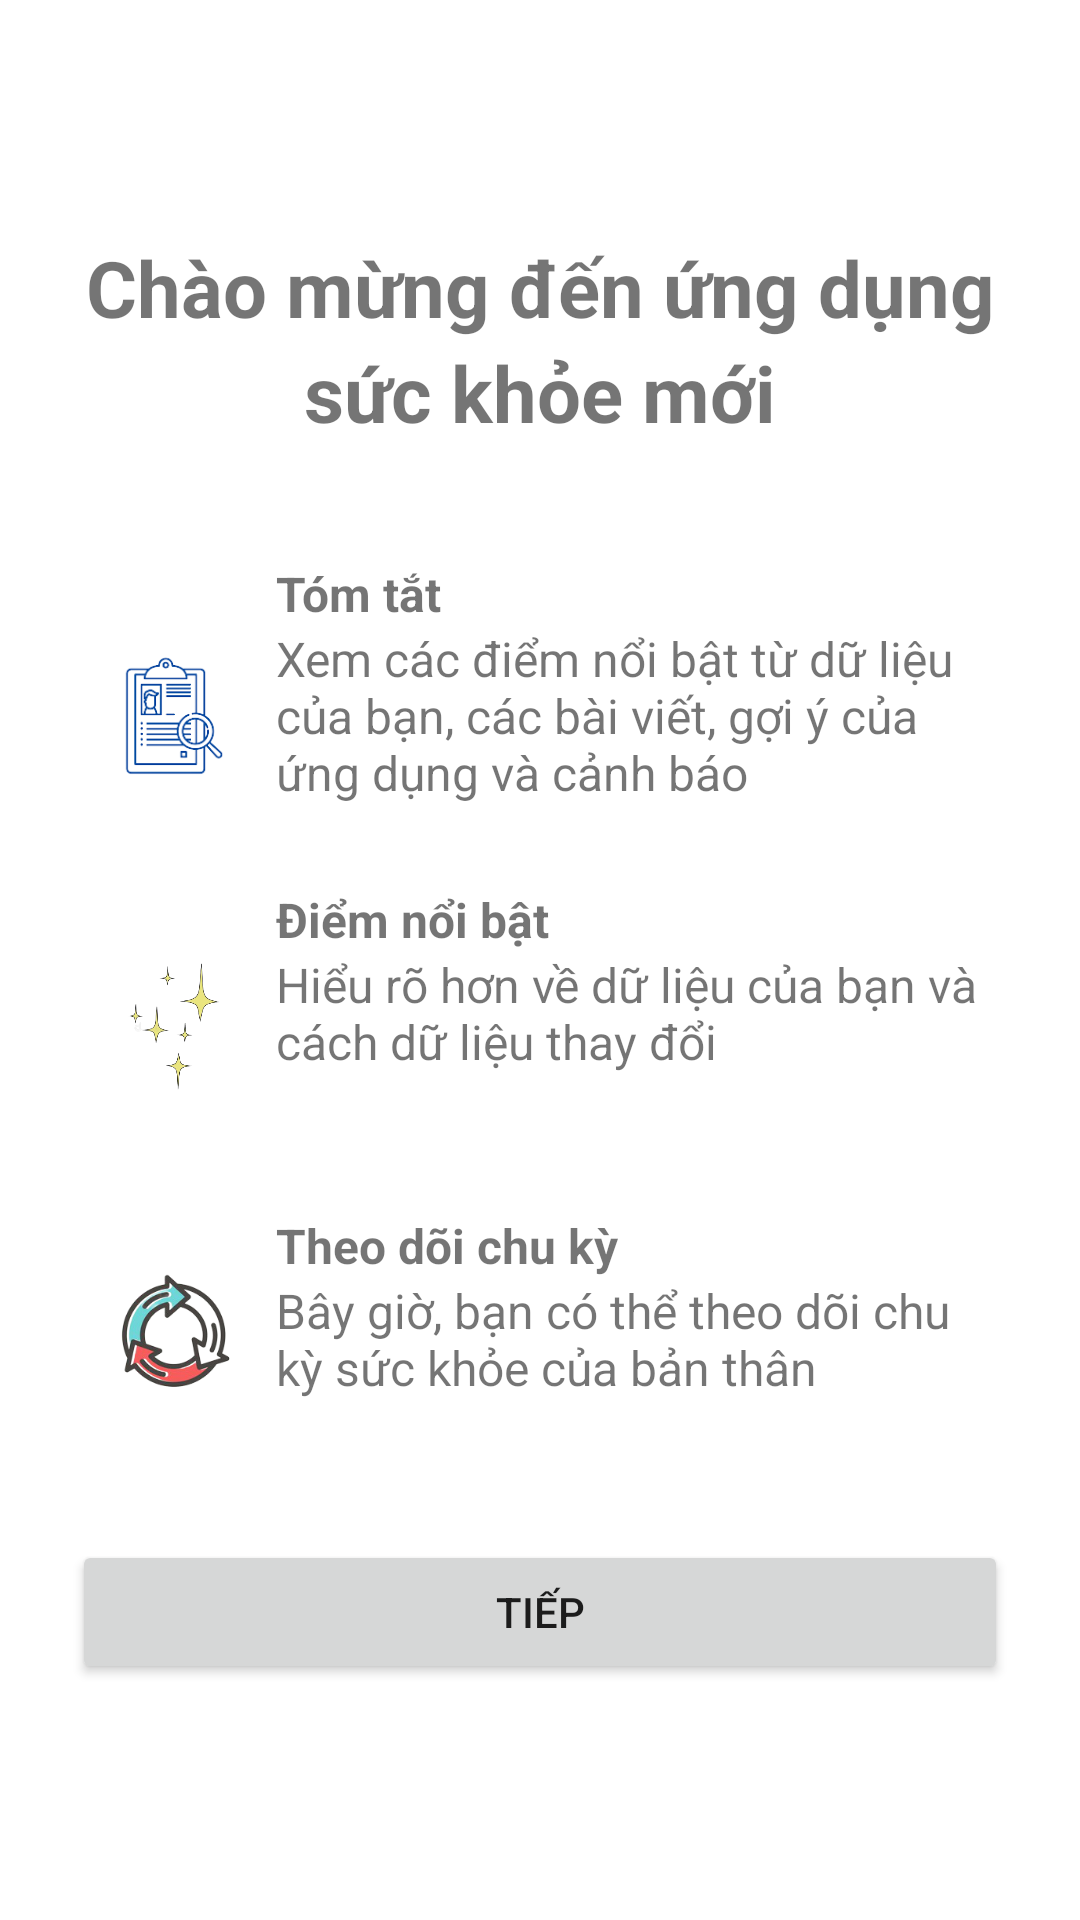

Named icons in this screenshot (1080*1920) and their centers, point (x, y):
cycle: point (176, 1331)
star: point (174, 1026)
summary: point (174, 715)
